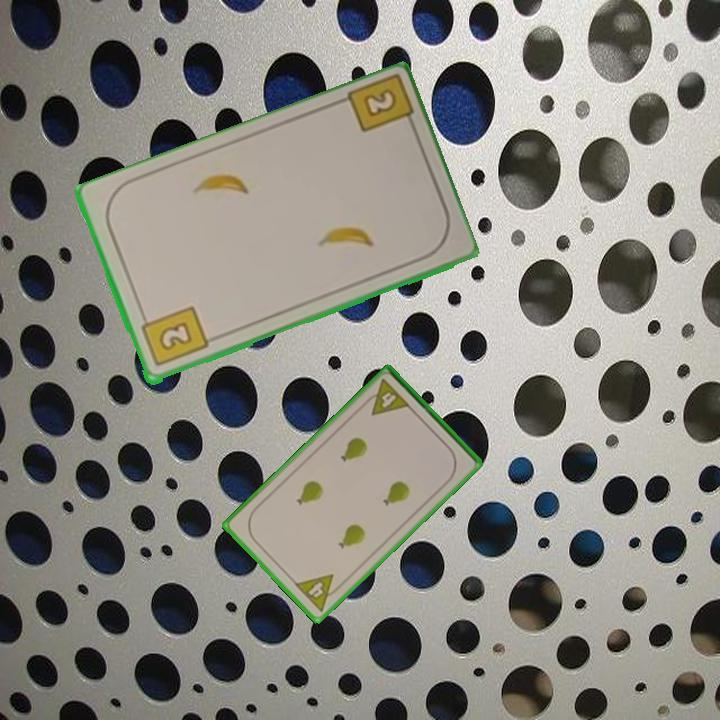2b: (137, 303, 211, 370), (341, 74, 419, 136)
4p: (291, 571, 345, 615), (360, 376, 413, 419)
